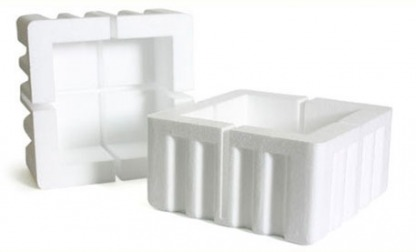Foam Box: (142, 84, 395, 246)
